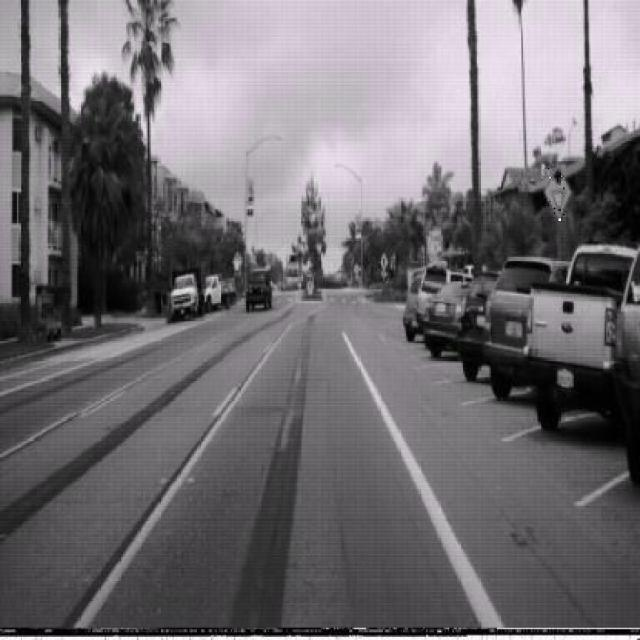keepRight: (306, 274, 314, 292)
pedestrianCrossing: (378, 251, 388, 271)
yieldAhead: (544, 162, 572, 221)
